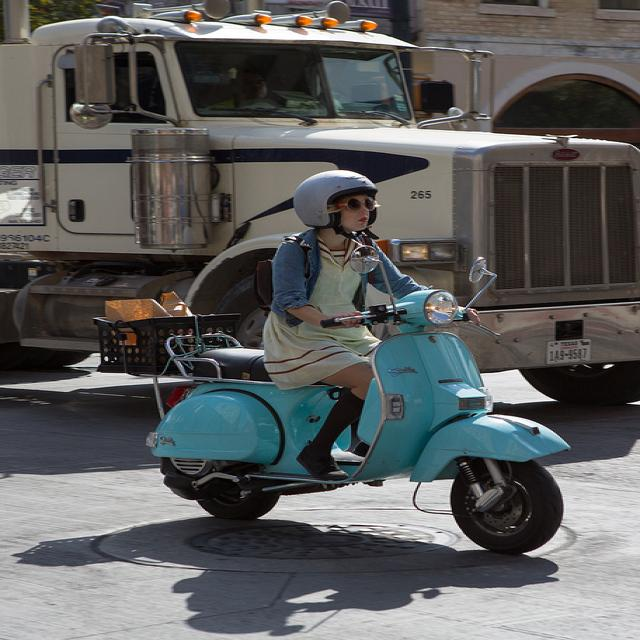motor: (150, 255, 570, 553)
